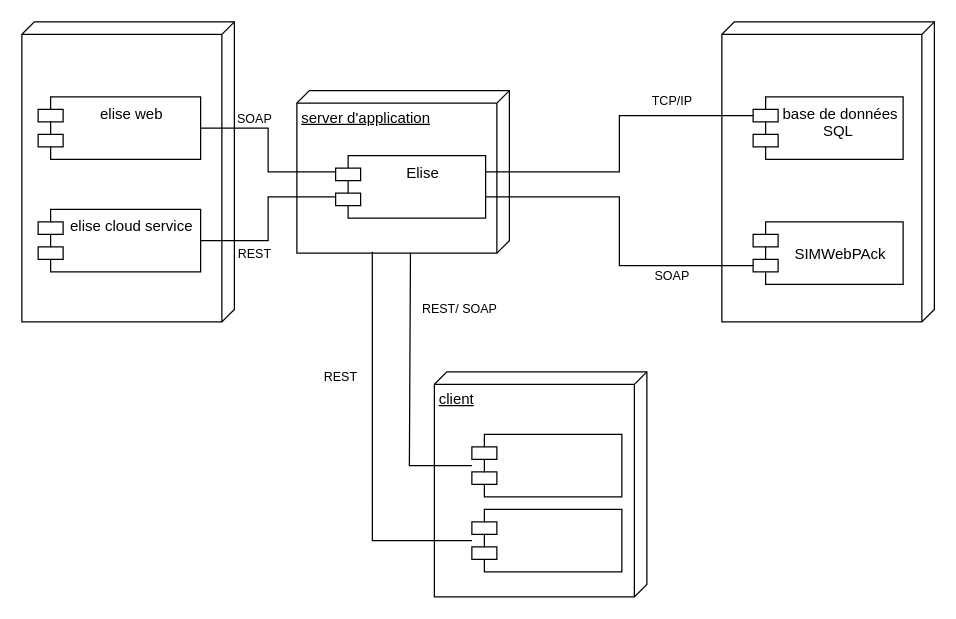
Image size: 956x619. Some labels were removed from this diagram. Each missing label, with the box of its shape:
client mobile: (471, 433, 622, 497)
client web: (471, 508, 622, 572)
server base de données: (721, 21, 934, 322)
server web: (21, 21, 234, 322)
